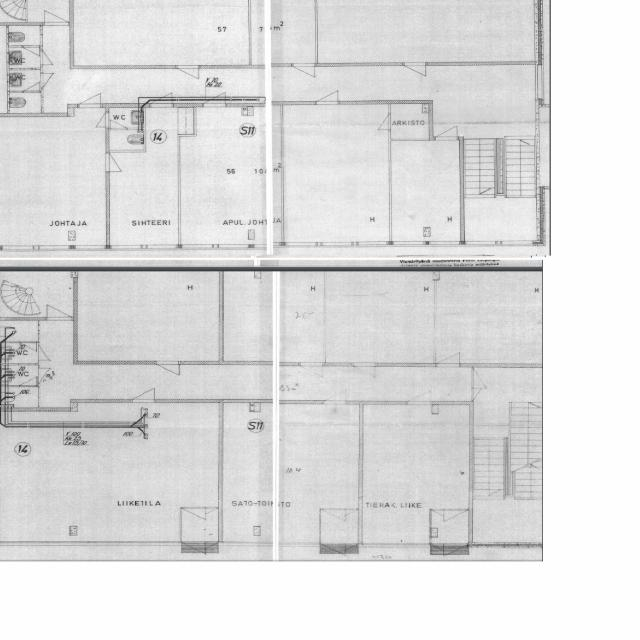door: (46, 295, 72, 320), (443, 543, 467, 570), (175, 59, 199, 84), (182, 543, 205, 569), (322, 543, 345, 569), (154, 361, 178, 385), (352, 361, 376, 384), (407, 381, 430, 405), (149, 80, 172, 104), (443, 508, 468, 530), (403, 59, 426, 82), (437, 342, 460, 364), (132, 382, 154, 405), (324, 382, 346, 405), (292, 59, 314, 82), (435, 117, 457, 140), (203, 81, 226, 103), (472, 368, 497, 388), (300, 361, 322, 383), (78, 81, 100, 103), (182, 507, 205, 528), (322, 508, 345, 529), (43, 0, 68, 19), (316, 82, 338, 103), (106, 153, 131, 171), (40, 48, 60, 64), (370, 114, 391, 129), (89, 112, 110, 126), (38, 345, 57, 360), (38, 369, 58, 383), (19, 371, 36, 387), (19, 341, 36, 357), (40, 73, 59, 87), (111, 114, 126, 130), (23, 44, 39, 59), (205, 543, 218, 559), (24, 76, 38, 90), (345, 543, 357, 559), (472, 388, 488, 400), (432, 543, 443, 558), (345, 508, 358, 520), (206, 507, 217, 519), (432, 509, 444, 520)
